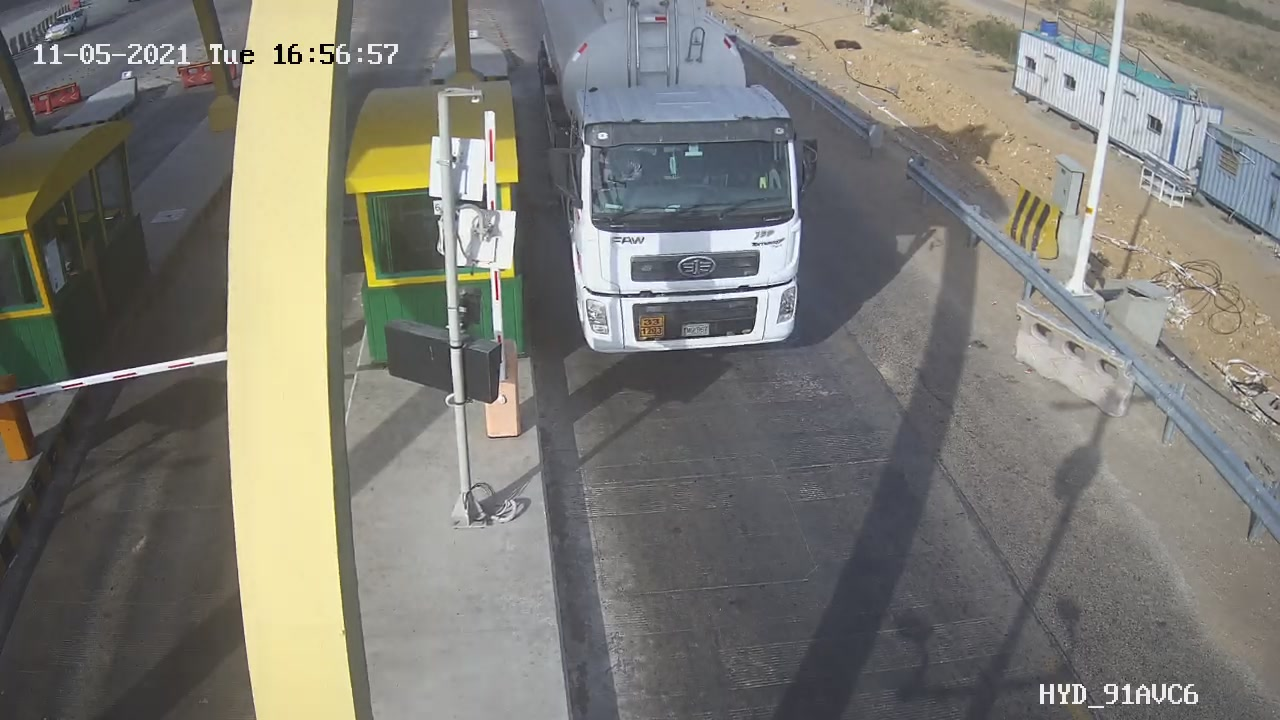F6: (518, 1, 843, 383)
